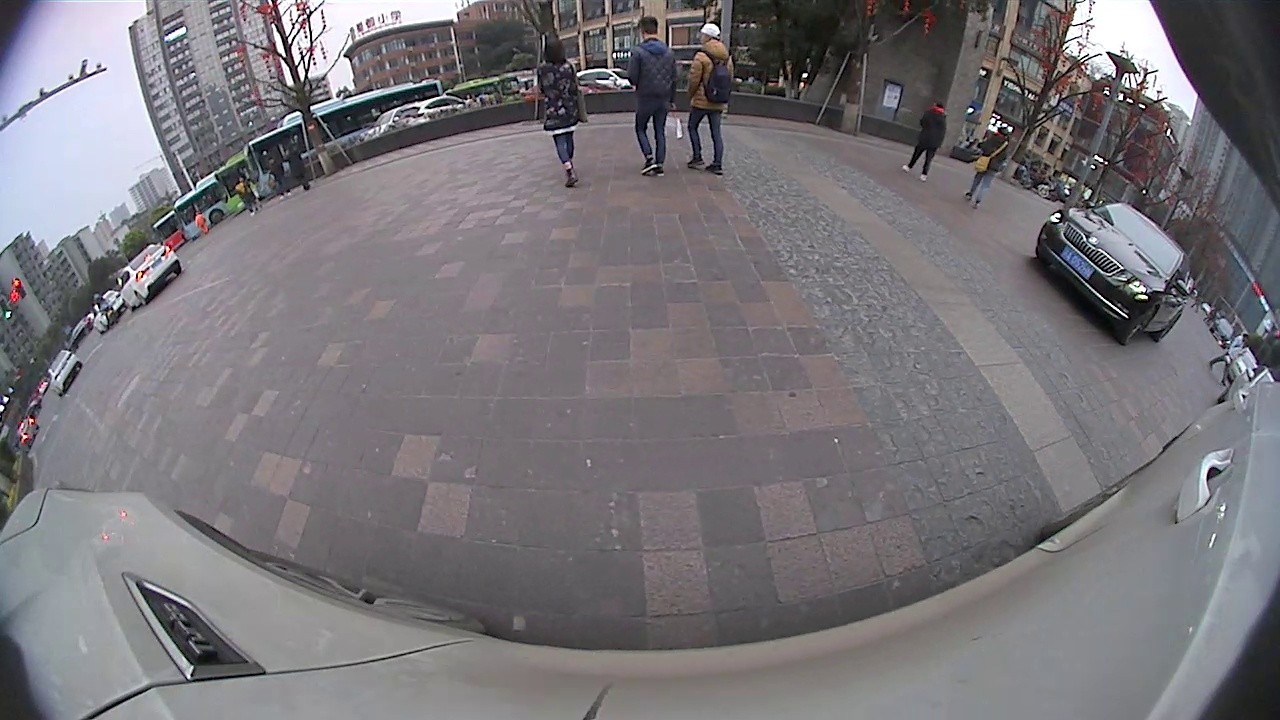bus: (245, 76, 443, 203)
car: (1035, 200, 1191, 346), (119, 243, 182, 312), (47, 348, 83, 399)
front: (1118, 301, 1160, 348)
person: (632, 15, 673, 179), (691, 24, 732, 176), (539, 37, 576, 188), (981, 125, 1012, 209), (921, 101, 947, 181)
